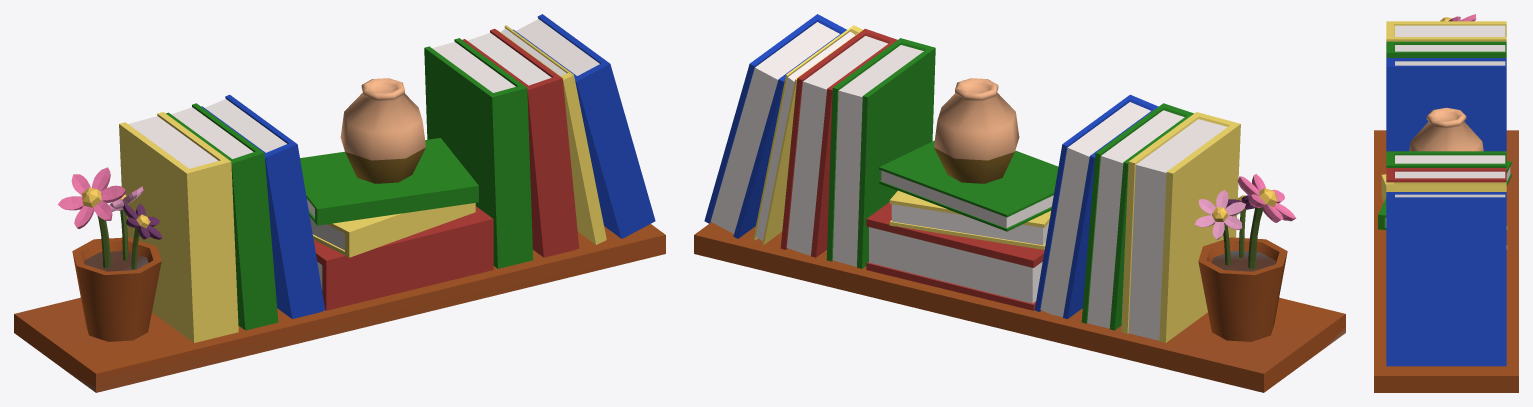
The model's file is Bookshelf.fbx.
3 renders of one model, left to right at view 1: azimuth 30°, elevation 25°; view 2: azimuth 150°, elevation 25°; view 3: azimuth 270°, elevation 25°, orthographic. The views are drawn at different scales.
Visible parts, largest first — view 1: Bookshelf, Bookshelf.002, Bookshelf.009, Bookshelf.001, Bookshelf.012, Bookshelf.008, Bookshelf.010, Bookshelf.004, Bookshelf.006, Bookshelf.003, Bookshelf.005, Bookshelf.011 (+1 smaller); view 2: Bookshelf, Bookshelf.002, Bookshelf.009, Bookshelf.001, Bookshelf.008, Bookshelf.012, Bookshelf.010, Bookshelf.004, Bookshelf.003, Bookshelf.006, Bookshelf.005, Bookshelf.011 (+1 smaller); view 3: Bookshelf.012, Bookshelf, Bookshelf.004, Bookshelf.002, Bookshelf.005, Bookshelf.003, Bookshelf.009, Bookshelf.010, Bookshelf.011, Bookshelf.006, Bookshelf.001, Bookshelf.007.
Boxes of the visible parts, bbox=[...] form: Bookshelf: bbox=[14, 224, 665, 392]; Bookshelf.002: bbox=[119, 112, 238, 342]; Bookshelf.009: bbox=[424, 38, 533, 268]; Bookshelf.001: bbox=[58, 167, 162, 341]; Bookshelf.012: bbox=[513, 14, 655, 238]; Bookshelf.008: bbox=[313, 206, 493, 310]; Bookshelf.010: bbox=[462, 28, 579, 257]; Bookshelf.004: bbox=[201, 94, 325, 318]; Bookshelf.006: bbox=[300, 138, 478, 225]; Bookshelf.003: bbox=[166, 103, 278, 330]; Bookshelf.005: bbox=[340, 78, 425, 183]; Bookshelf.011: bbox=[497, 25, 606, 244]; Bookshelf: bbox=[694, 222, 1345, 392]; Bookshelf.002: bbox=[1121, 112, 1240, 342]; Bookshelf.009: bbox=[826, 38, 935, 268]; Bookshelf.001: bbox=[1195, 174, 1296, 341]; Bookshelf.008: bbox=[866, 202, 1044, 310]; Bookshelf.012: bbox=[704, 14, 846, 238]; Bookshelf.010: bbox=[780, 28, 897, 257]; Bookshelf.004: bbox=[1034, 94, 1158, 318]; Bookshelf.003: bbox=[1081, 103, 1193, 330]; Bookshelf.006: bbox=[879, 140, 1058, 231]; Bookshelf.005: bbox=[934, 78, 1019, 183]; Bookshelf.011: bbox=[753, 25, 862, 244]; Bookshelf.012: bbox=[1386, 192, 1506, 366]; Bookshelf: bbox=[1374, 130, 1518, 392]; Bookshelf.004: bbox=[1386, 58, 1506, 151]; Bookshelf.002: bbox=[1386, 21, 1506, 41]; Bookshelf.005: bbox=[1409, 107, 1483, 151]; Bookshelf.003: bbox=[1386, 41, 1506, 57]; Bookshelf.009: bbox=[1386, 151, 1506, 167]; Bookshelf.010: bbox=[1386, 168, 1506, 182]; Bookshelf.011: bbox=[1386, 182, 1506, 191]; Bookshelf.006: bbox=[1378, 161, 1511, 229]; Bookshelf.001: bbox=[1440, 14, 1476, 21]; Bookshelf.007: bbox=[1381, 174, 1507, 249].
Size of the model in its own units: 192 by 63.41 by 47.74.
Materials: 1 (1 with a texture image).
